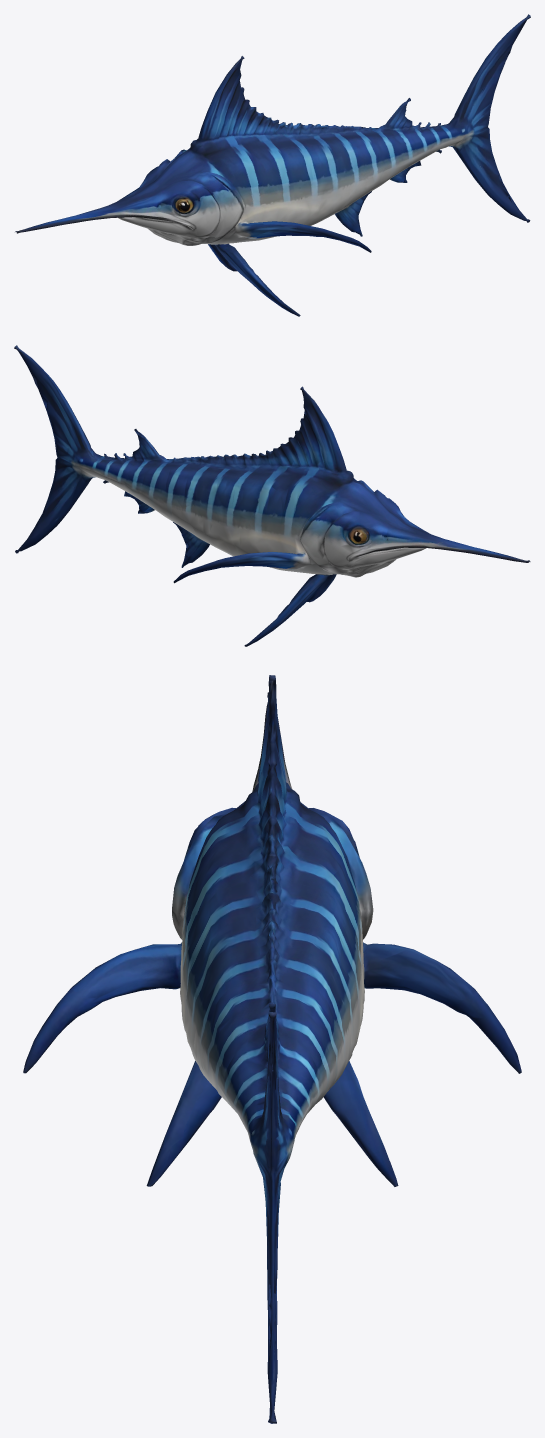
File: fish-marlin.glb
3 renders of one model, top to bottom at view 1: azimuth 30°, elevation 25°; view 2: azimuth 150°, elevation 25°; view 3: azimuth 270°, elevation 25°, orthographic. The views are drawn at different scales.
Visible parts, largest first — view 1: tripo_node_490d6128-439f-4720-b79d-7ff9a7efa4ab; view 2: tripo_node_490d6128-439f-4720-b79d-7ff9a7efa4ab; view 3: tripo_node_490d6128-439f-4720-b79d-7ff9a7efa4ab.
Boxes of the visible parts, left/top/right/bottom form: tripo_node_490d6128-439f-4720-b79d-7ff9a7efa4ab: left=15, top=14, right=530, bottom=316; tripo_node_490d6128-439f-4720-b79d-7ff9a7efa4ab: left=14, top=345, right=530, bottom=646; tripo_node_490d6128-439f-4720-b79d-7ff9a7efa4ab: left=23, top=675, right=521, bottom=1423.
Size of the model in its own units: 1 by 0.4511 by 0.4184.
1 material, 1 textured.
